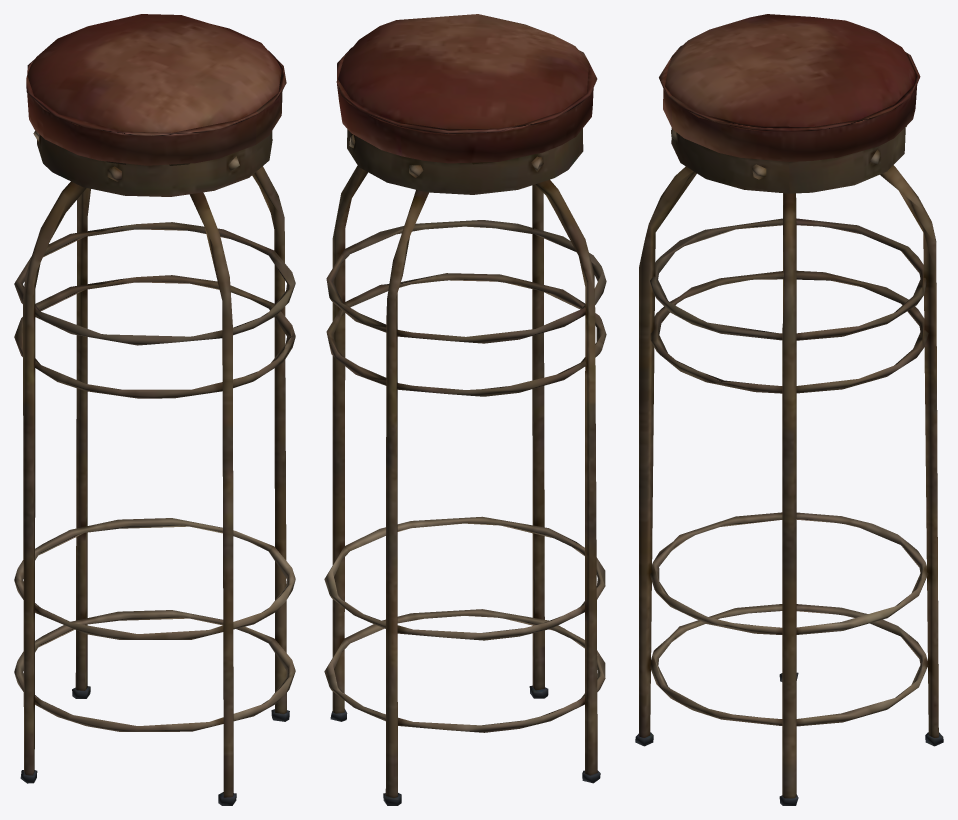
The model's file is stool.glb.
3 renders of one model, left to right at view 1: azimuth 30°, elevation 25°; view 2: azimuth 150°, elevation 25°; view 3: azimuth 270°, elevation 25°, orthographic.
Parts seen in each view (by area): view 1: metal_stool_01; view 2: metal_stool_01; view 3: metal_stool_01.
Part boxes in pixels (box(x1,y1,x2,y2)): metal_stool_01: box(14, 14, 295, 805); metal_stool_01: box(324, 14, 606, 805); metal_stool_01: box(635, 14, 943, 805).
Size of the model in its own units: 0.3505 by 0.8824 by 0.3538.
1 material, 1 textured.
